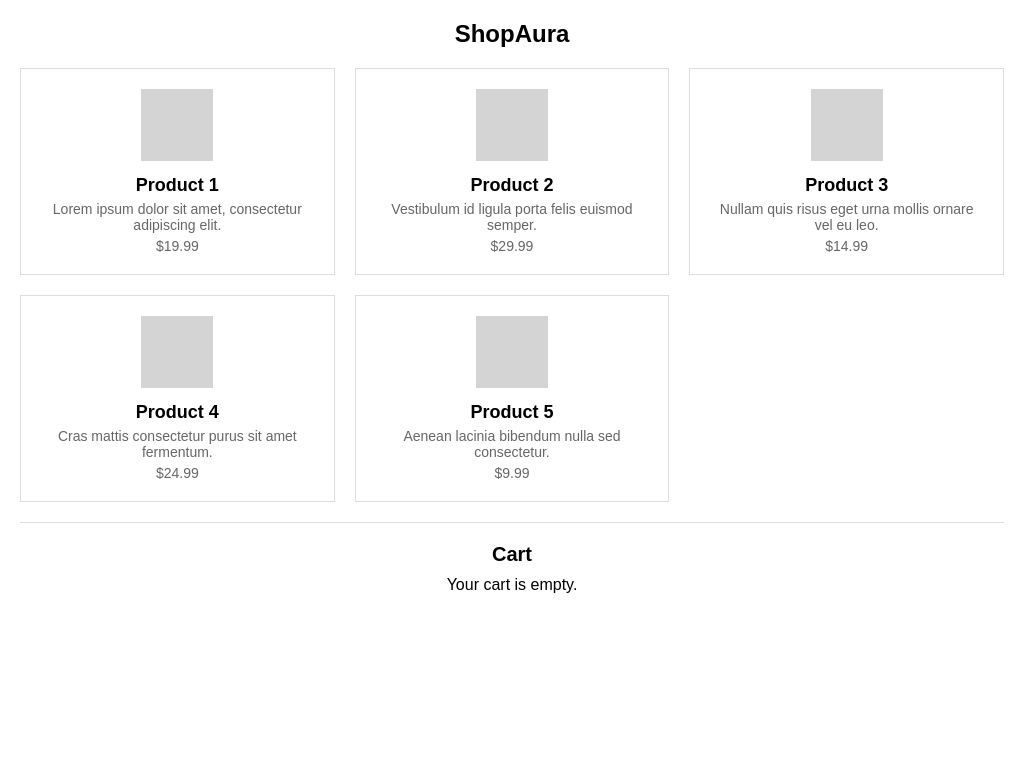
Test case: app › displaying_add_to_cart_when_the_product_is_clicked › displays_add_to_cart_button_when_product_1_is_clicked
The image size is (1024, 760).
Step 1. Click the heading "Product 1" → (177, 185), box [136,175,219,195]
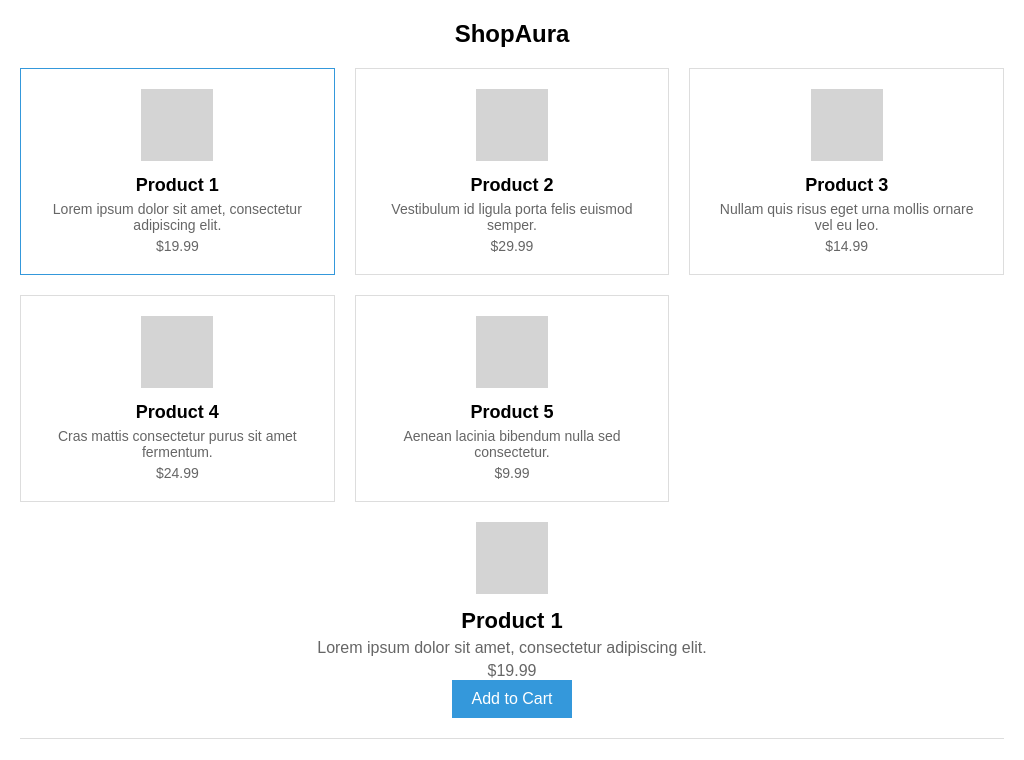
Expected: the button "Add to Cart" is shown, [452,680,572,718]
